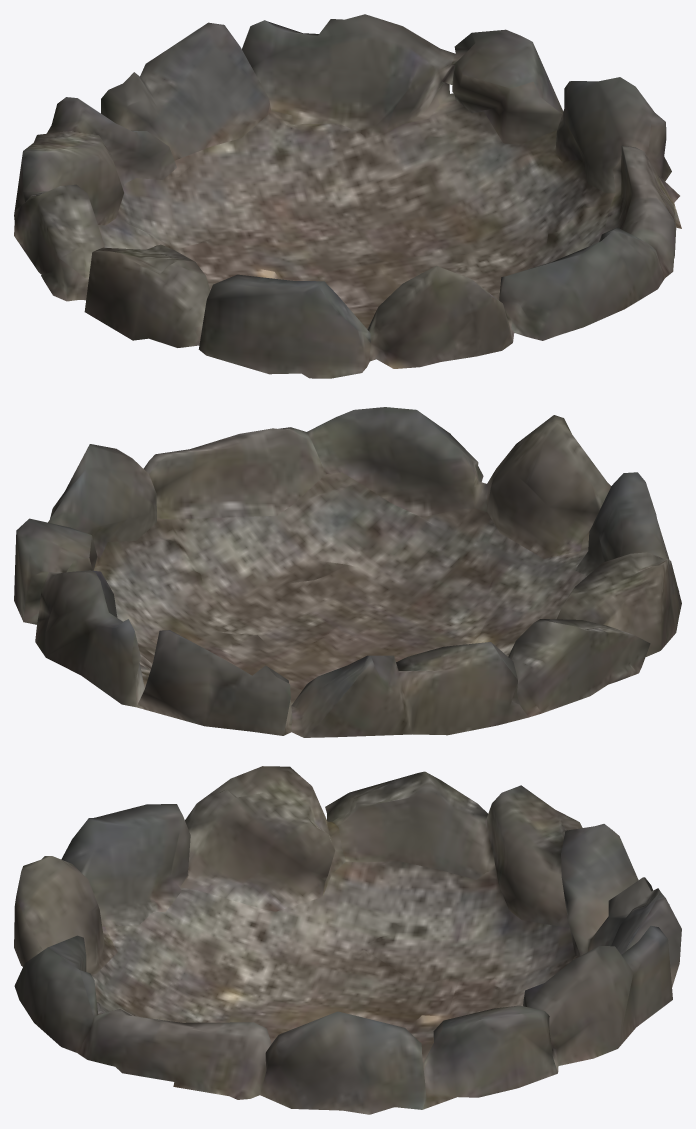
The model's file is fire_pit.glb.
3 renders of one model, top to bottom at view 1: azimuth 30°, elevation 25°; view 2: azimuth 150°, elevation 25°; view 3: azimuth 270°, elevation 25°, orthographic.
Parts seen in each view (by area): view 1: fire_pit; view 2: fire_pit; view 3: fire_pit.
Part boxes in pixels (box(x1,y1,x2,y2)): fire_pit: box(14, 14, 681, 378); fire_pit: box(14, 407, 681, 737); fire_pit: box(14, 766, 681, 1114).
Size of the model in its own units: 1.45 by 0.3883 by 1.43.
1 material, 1 textured.
